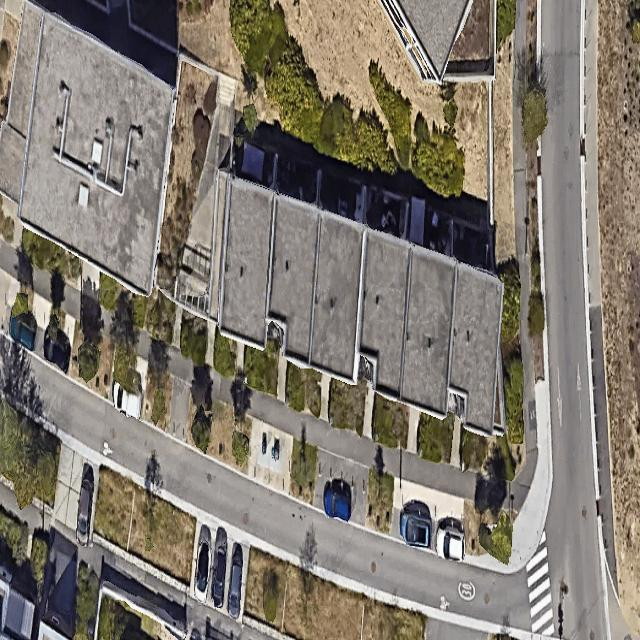immeuble: (0, 0, 187, 296), (443, 264, 506, 432), (218, 180, 273, 342), (309, 217, 362, 377), (401, 254, 453, 412), (357, 234, 409, 390), (266, 200, 317, 354), (397, 0, 470, 78)
